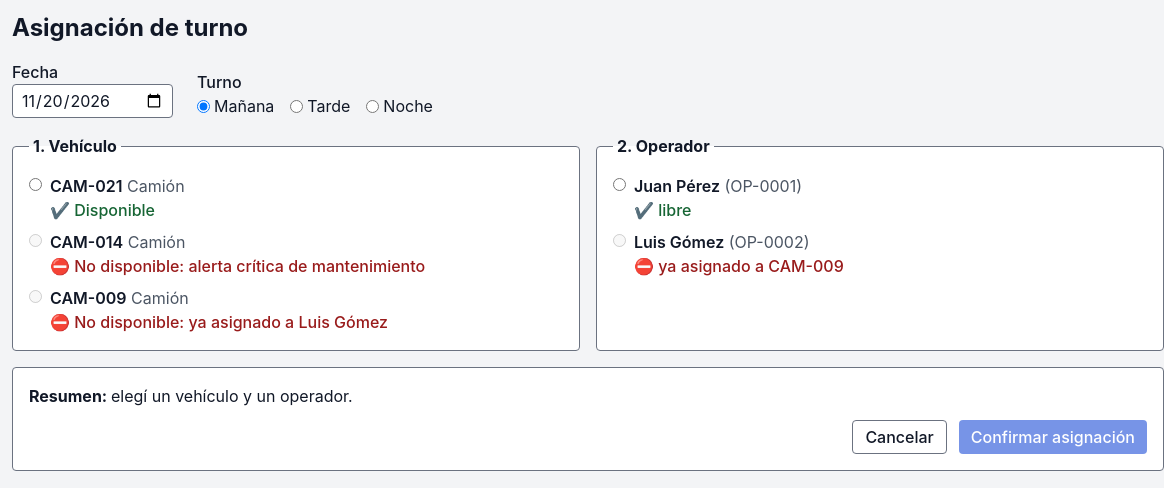
ShiftsPage › Confirmar queda deshabilitado hasta elegir vehículo y operador
Expected: the button "Confirmar asignación" is disabled, x1=959 y1=420 x2=1147 y2=454
Step 1. Click the radio button labelled "CAM-021 Camión✔ Disponible" → coordinates (36, 184), box x1=29 y1=178 x2=42 y2=191
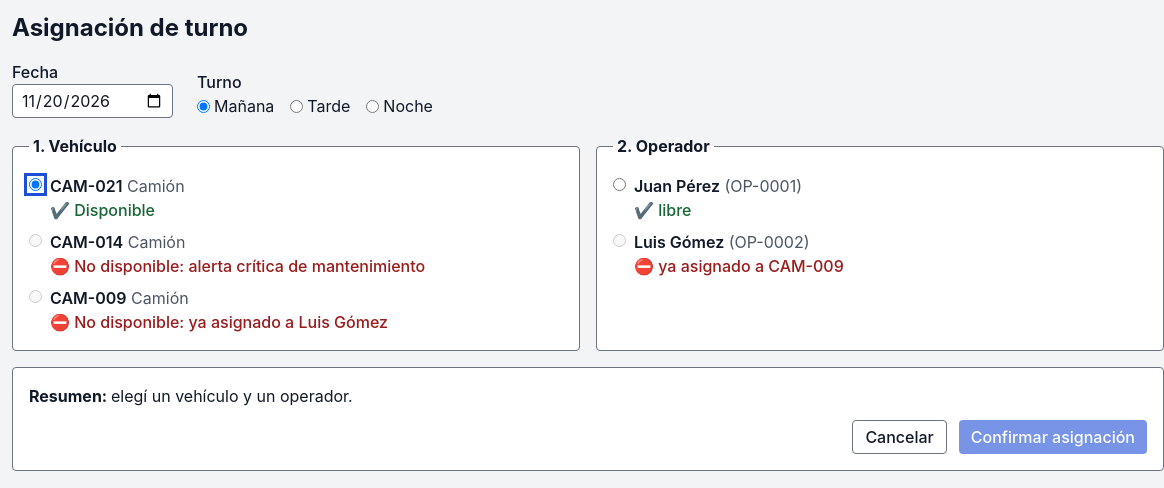
Expected: the button "Confirmar asignación" is disabled, x1=959 y1=420 x2=1147 y2=454
Step 2. Click the radio button labelled "Juan Pérez (OP-0001)✔ libre" → coordinates (620, 184), box x1=613 y1=178 x2=626 y2=191
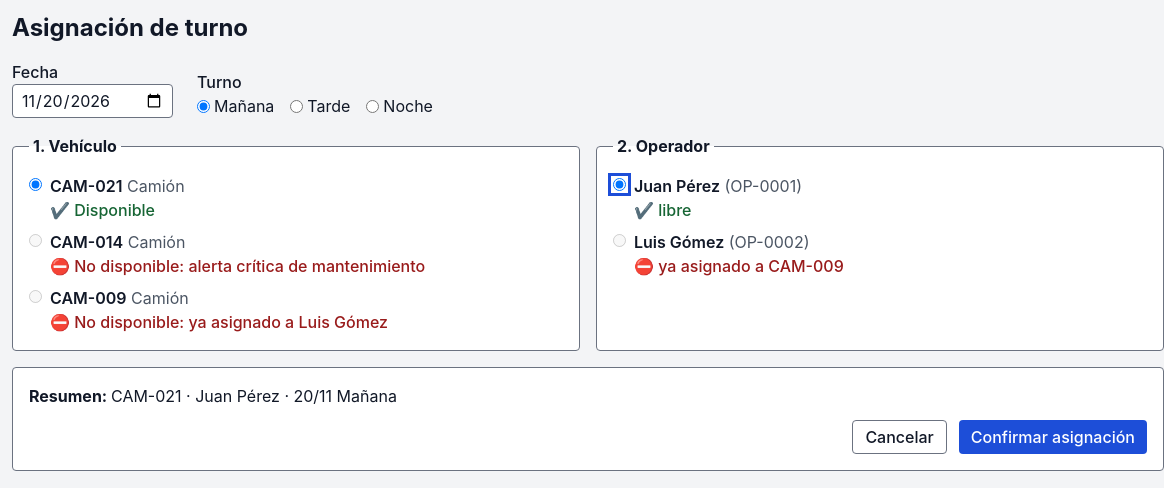
Now the button "Confirmar asignación" is enabled, box x1=959 y1=420 x2=1147 y2=454
Now the text "Resumen: CAM-021 · Juan Pérez · 20/11 Mañana" is shown, box x1=29 y1=386 x2=397 y2=406
